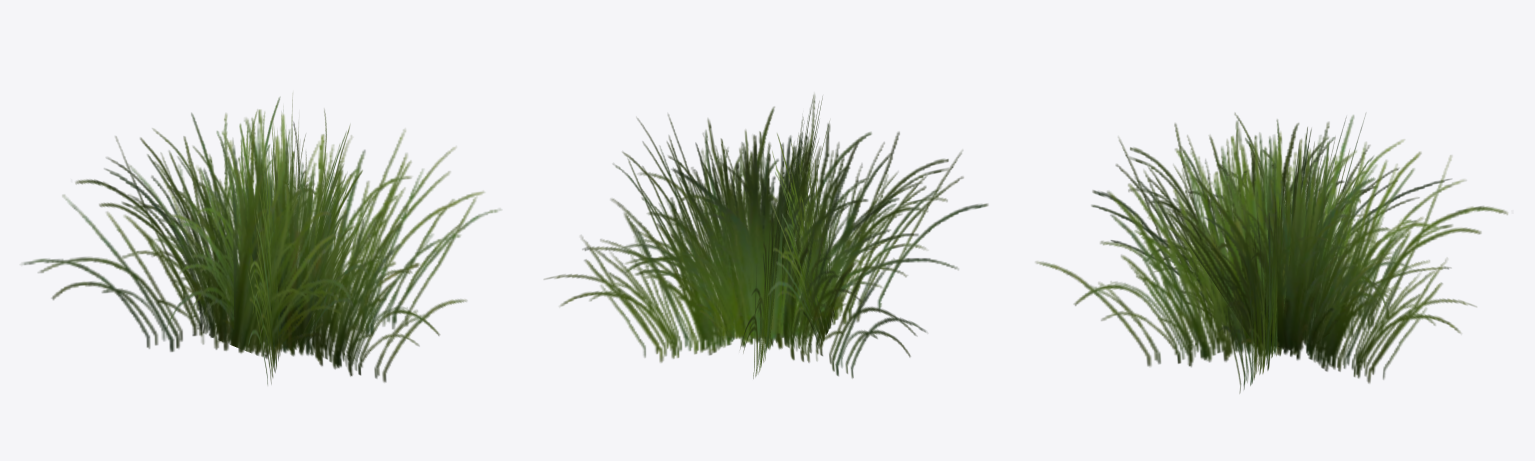
The model's file is grasssprite-transformed.glb.
3 views of the same model, side by side, from view 1: azimuth 30°, elevation 25°; view 2: azimuth 150°, elevation 25°; view 3: azimuth 270°, elevation 25° (orthographic). The views are drawn at different scales.
Parts seen in each view (by area): view 1: Grass medium 3_GrassAtlas_0; view 2: Grass medium 3_GrassAtlas_0; view 3: Grass medium 3_GrassAtlas_0.
Boxes of the visible parts, left/top/right/bottom form: Grass medium 3_GrassAtlas_0: left=21, top=97, right=501, bottom=384; Grass medium 3_GrassAtlas_0: left=544, top=94, right=988, bottom=378; Grass medium 3_GrassAtlas_0: left=1035, top=113, right=1507, bottom=393.
Size of the model in its own units: 0.3507 by 0.2099 by 0.3752.
Materials: 1 (1 with a texture image).
